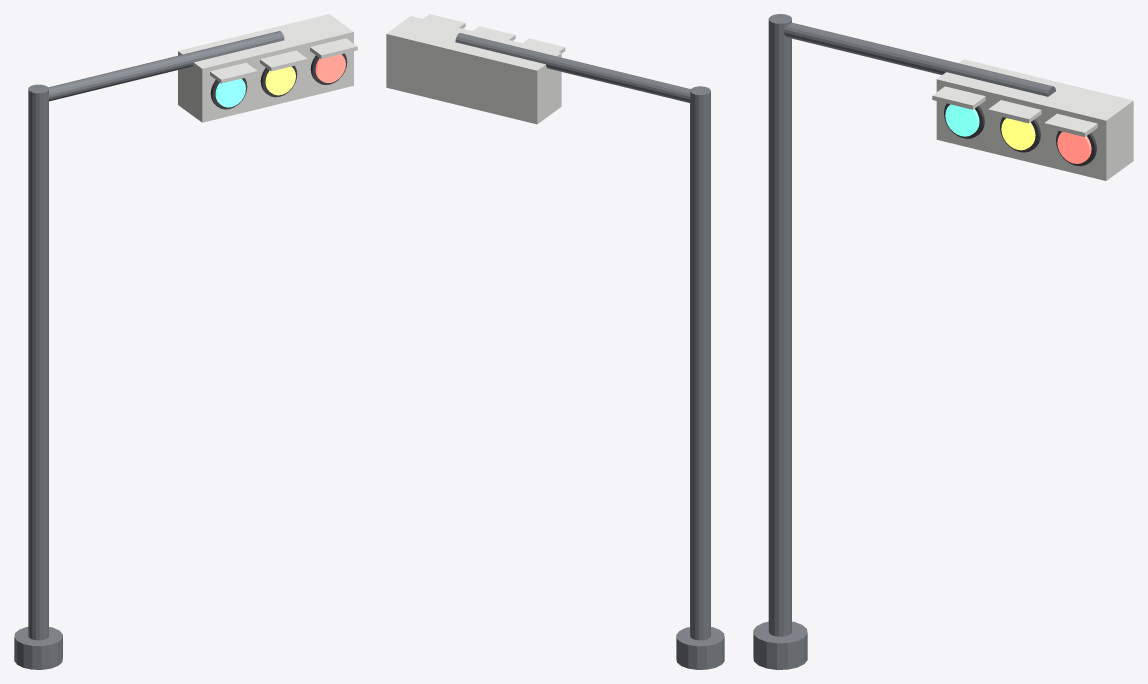
The model's file is traffic_light.glb.
3 renders of one model, left to right at view 1: azimuth 30°, elevation 25°; view 2: azimuth 150°, elevation 25°; view 3: azimuth 330°, elevation 25°, orthographic. The views are drawn at different scales.
Parts seen in each view (by area): view 1: traffic_light; view 2: traffic_light; view 3: traffic_light.
Part boxes in pixels (x1,y1,x2,y2): traffic_light: (14,14,357,669); traffic_light: (386,14,724,669); traffic_light: (753,14,1133,669).
Bounding box in the file's own units: 2.14 × 3.6 × 0.41.
